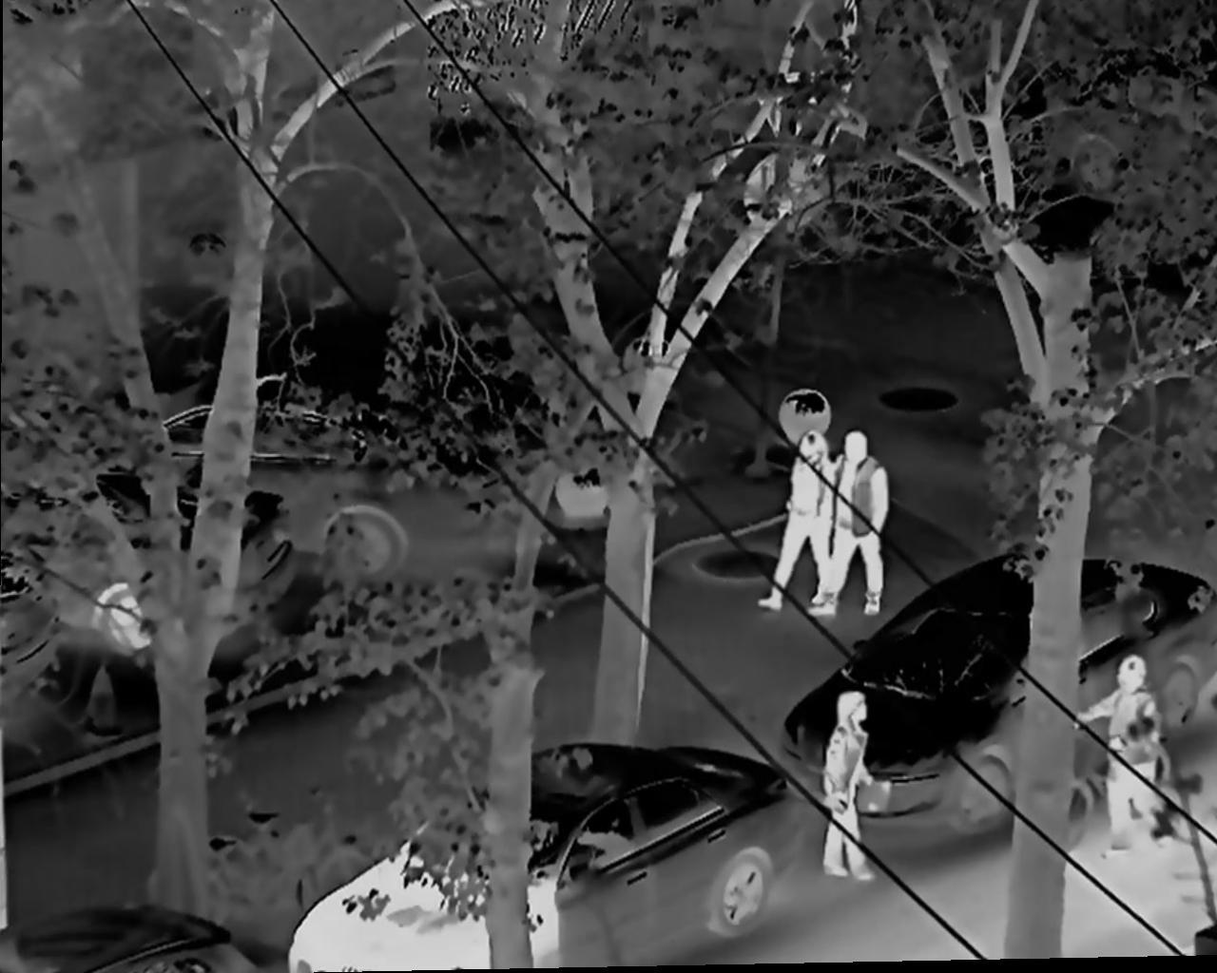person: (1078, 651, 1160, 855), (808, 432, 890, 614), (756, 433, 835, 612), (821, 693, 871, 881)
